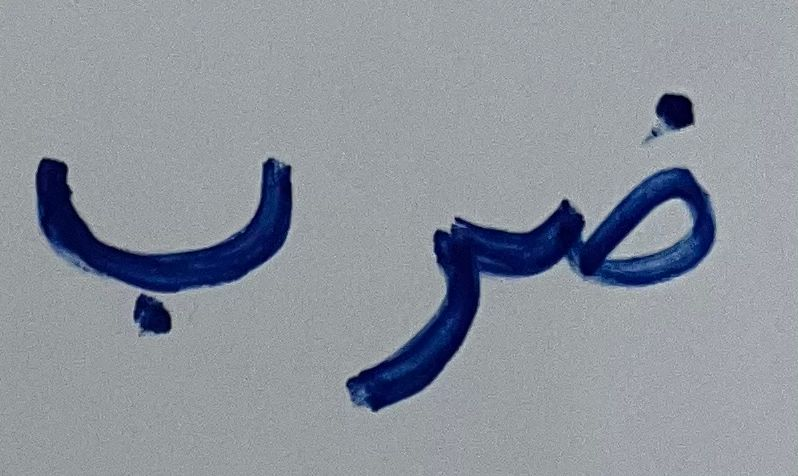beh: (13, 101, 321, 360)
qaf: (529, 78, 736, 307)
reh: (344, 161, 512, 419)
